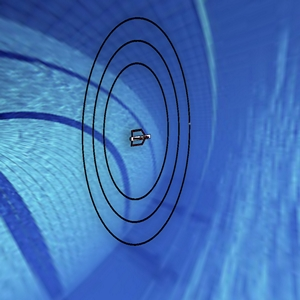circle: (60, 12, 236, 259)
submarine: (123, 121, 155, 152)
